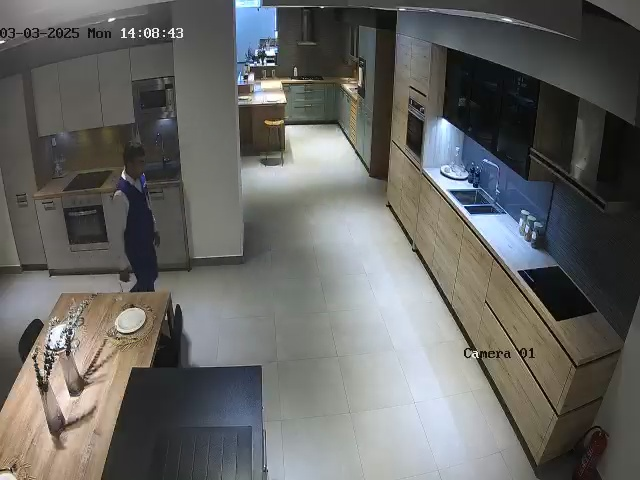employee: (113, 140, 160, 292)
